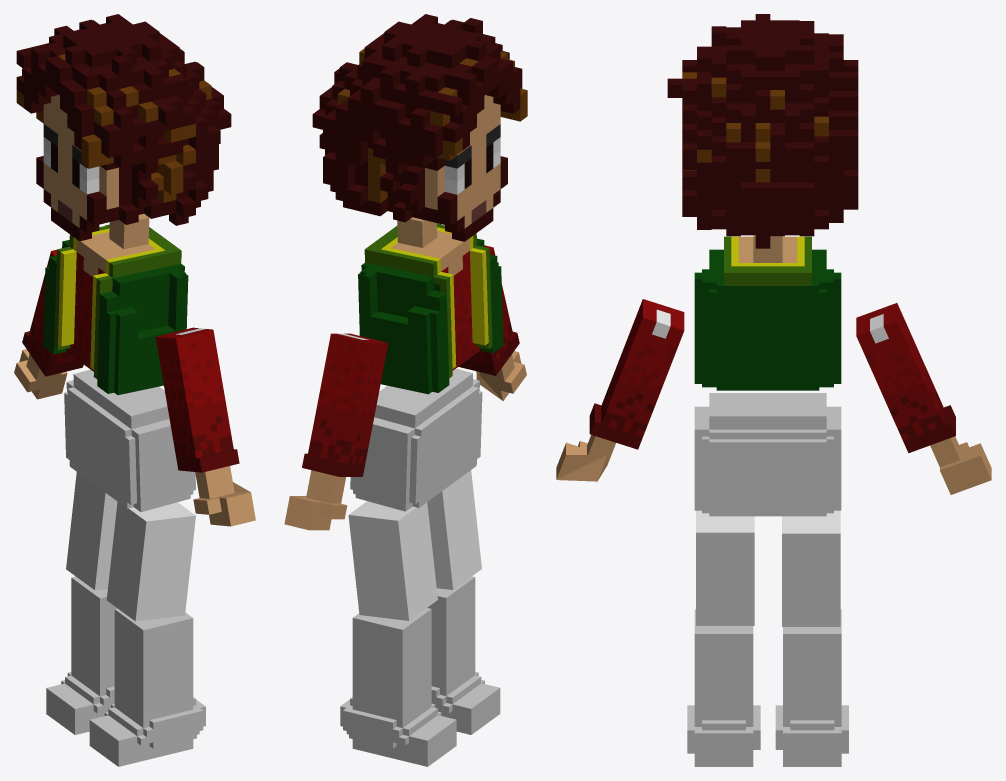
The model's file is Idle1.fbx.
3 renders of one model, left to right at view 1: azimuth 30°, elevation 25°; view 2: azimuth 150°, elevation 25°; view 3: azimuth 270°, elevation 25°, orthographic.
Parts seen in each view (by area): view 1: Idle1; view 2: Idle1; view 3: Idle1.
Part boxes in pixels (x1,y1,x2,y2): Idle1: (14, 14, 255, 766); Idle1: (284, 14, 527, 766); Idle1: (556, 14, 991, 766).
Bounding box in the file's own units: 48.63 × 216 × 120.
